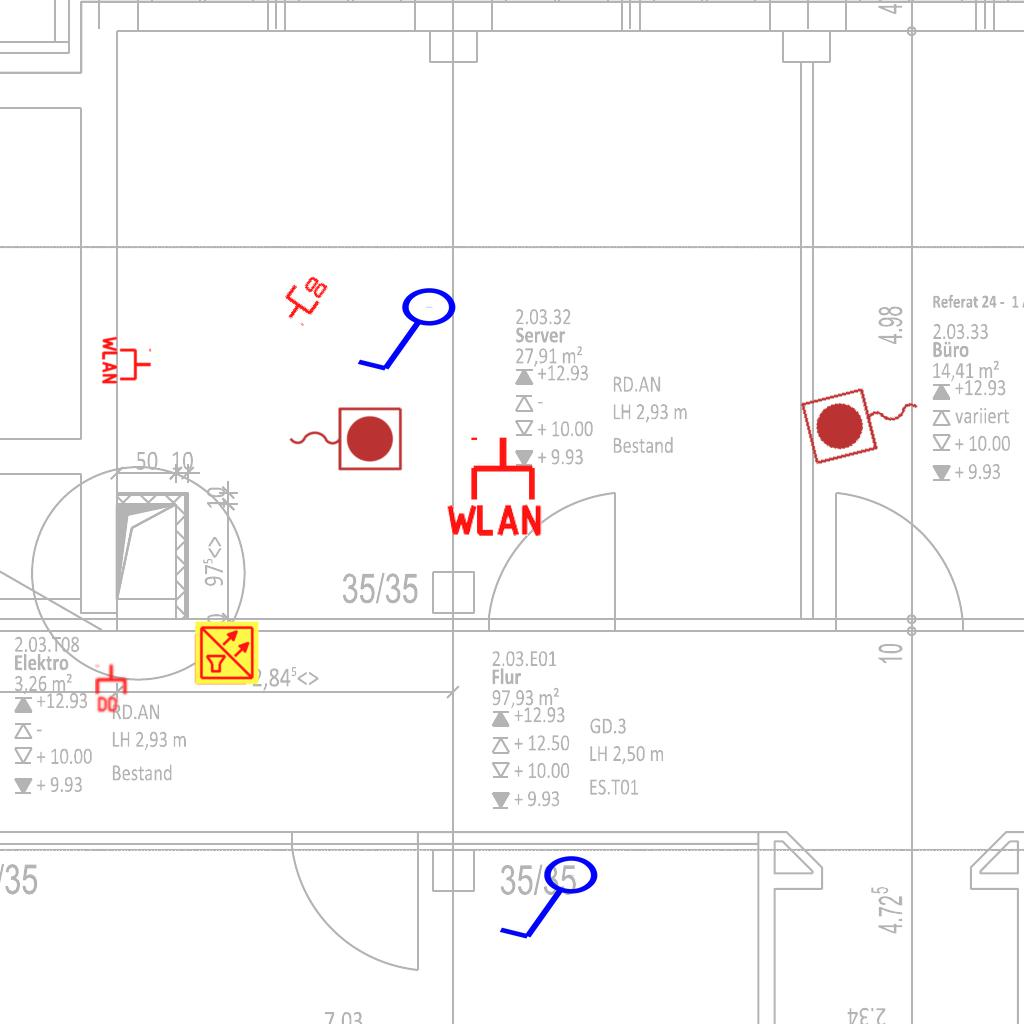Ausschalter: (497, 853, 609, 949), (355, 285, 467, 381)
Datenanschluss_zweifach: (274, 266, 332, 329), (95, 663, 129, 714)
OKW_Multisensormelder_(Kombination_optischer_Rauch-Kahlenmonoxid_Waerme-Melder): (194, 620, 260, 686)
WLAN: (442, 433, 546, 538), (101, 334, 153, 386)
Zugtaster: (796, 371, 932, 471), (284, 402, 406, 474)
